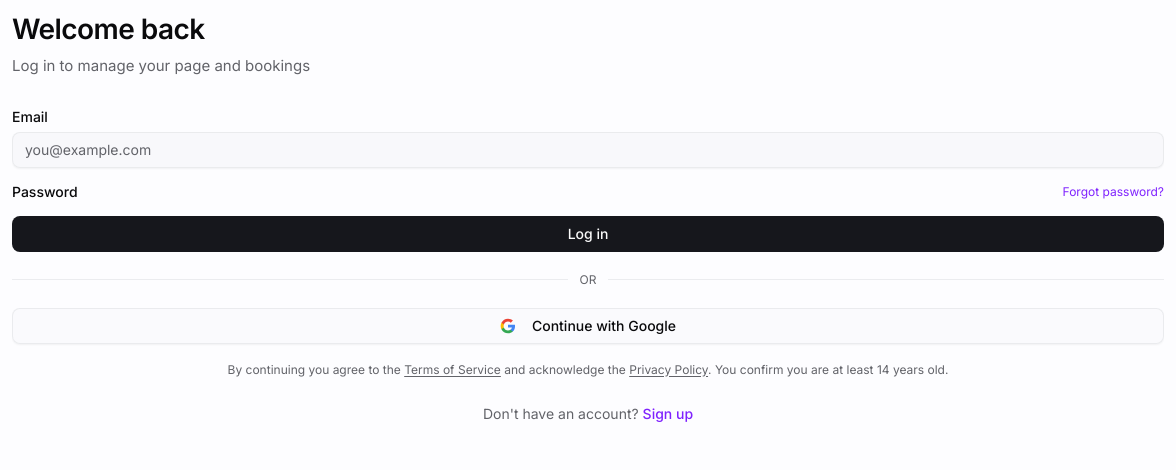
Test: AuthForm › mode switching › switches to signup mode when Sign up link is clicked
This screenshot has width=1176, height=470.
Click the button "Sign up". click: (668, 414)
box: x1=643 y1=404 x2=693 y2=424
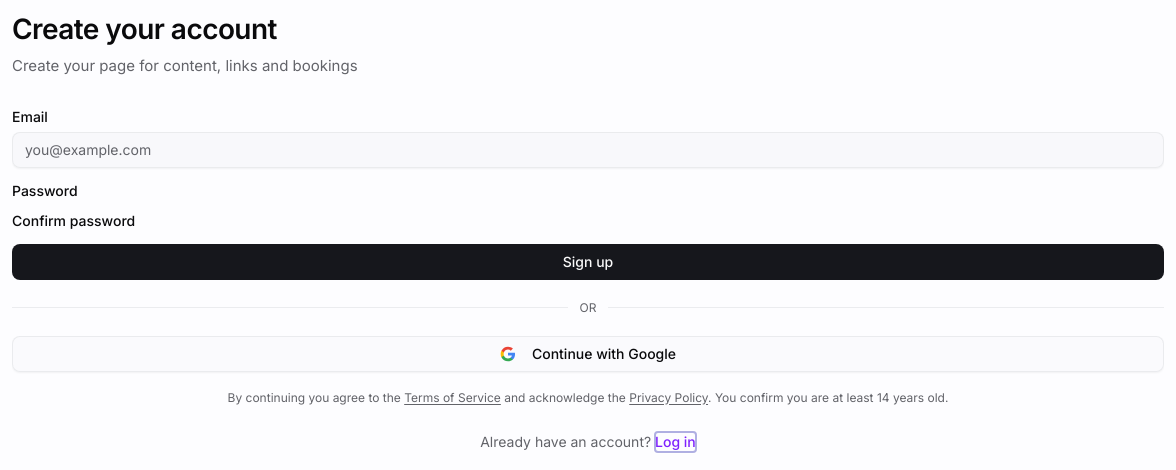
Now the heading "Create your account" is shown, box x1=12 y1=12 x2=277 y2=46
Now the button "Sign up" is shown, box x1=12 y1=244 x2=1164 y2=280
